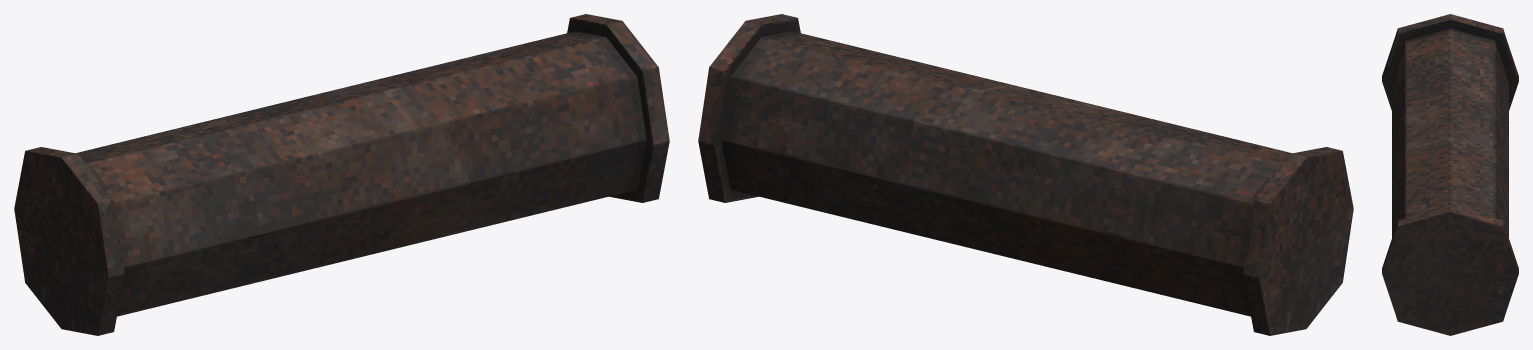
The model's file is Pipe.glb.
3 views of the same model, side by side, from view 1: azimuth 30°, elevation 25°; view 2: azimuth 150°, elevation 25°; view 3: azimuth 270°, elevation 25° (orthographic). The views are drawn at different scales.
Parts seen in each view (by area): view 1: Cube.023; view 2: Cube.023; view 3: Cube.023.
Boxes of the visible parts, left/top/right/bottom form: Cube.023: left=14, top=14, right=669, bottom=335; Cube.023: left=698, top=14, right=1353, bottom=335; Cube.023: left=1382, top=14, right=1518, bottom=335.
Size of the model in its own units: 1.92 by 0.5622 by 0.5622.
1 material, 1 textured.
